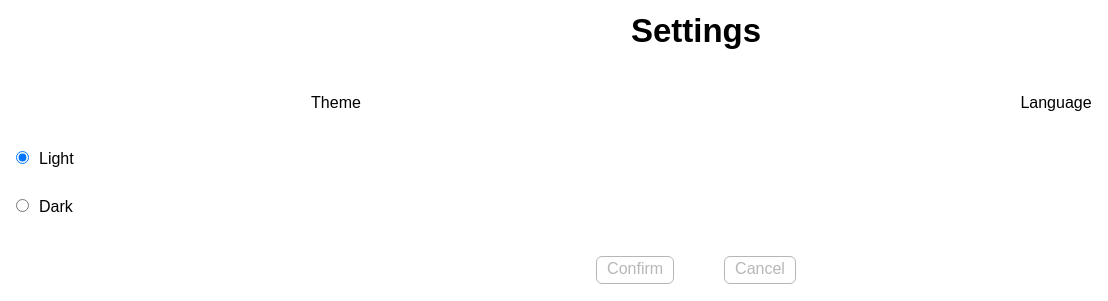
Scenario: Settings › buttons disabled for theme settings
This screenshot has width=1108, height=301.
Expected: the button "Confirm" is disabled, [596,256,674,284]
Expected: the button "Cancel" is disabled, [724,256,796,284]
Click the text "Dark". click: point(56, 206)
box: [39,198,73,215]
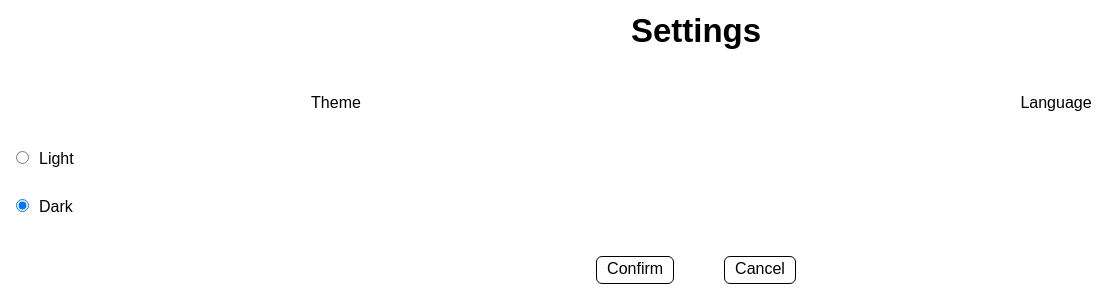
Expected: the button "Confirm" is enabled, [596,256,674,284]
Expected: the button "Cancel" is enabled, [724,256,796,284]
Click the text "Light". click: point(56, 158)
box: [39,150,74,167]
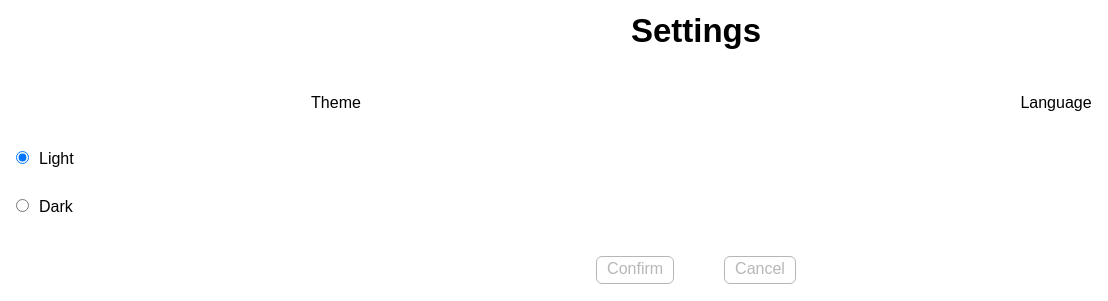
Expected: the button "Confirm" is disabled, [596,256,674,284]
Expected: the button "Cancel" is disabled, [724,256,796,284]
